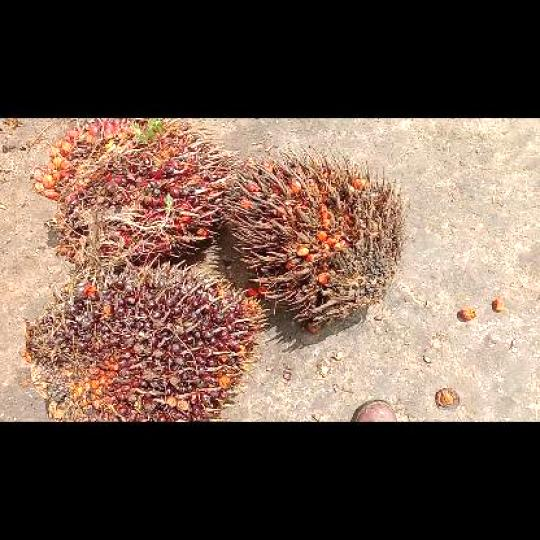kurang masak: (26, 268, 262, 420)
masak: (36, 118, 221, 262)
terlalu masak: (218, 157, 405, 328)
